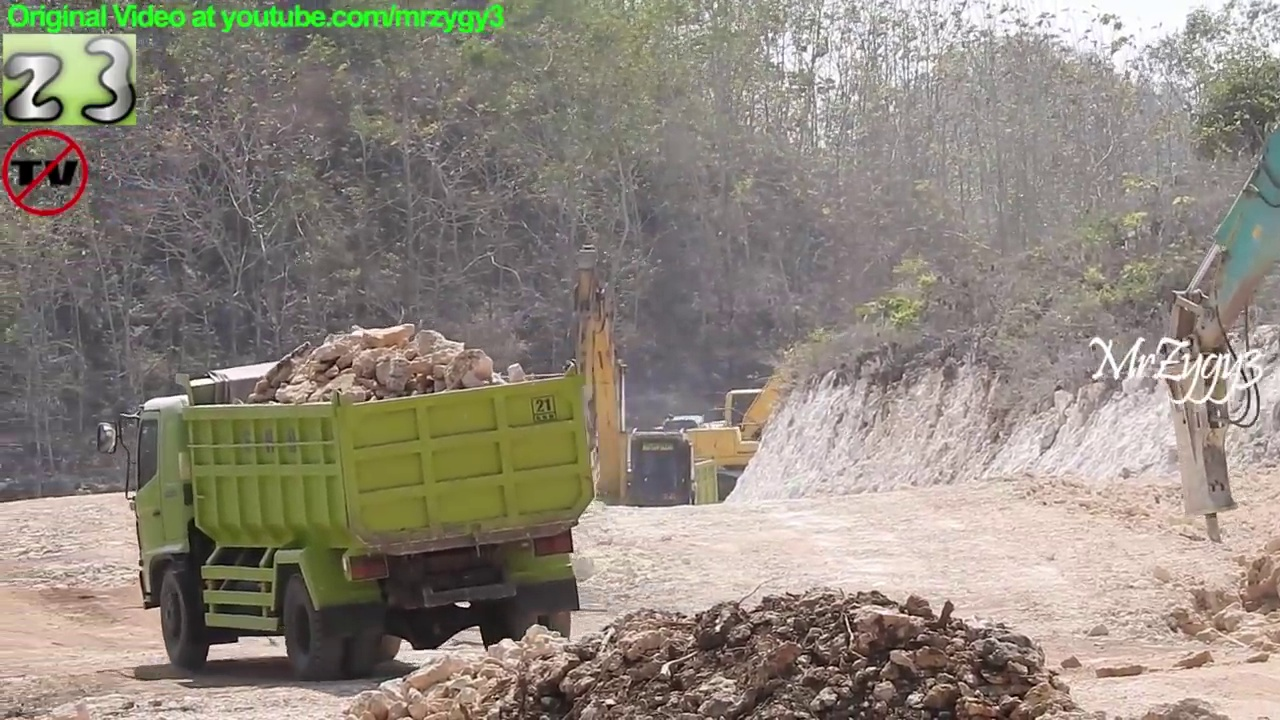excavator: (1154, 109, 1280, 551), (512, 227, 677, 536), (647, 341, 864, 509)
truck: (93, 350, 603, 689), (595, 423, 730, 544), (606, 428, 730, 536)
